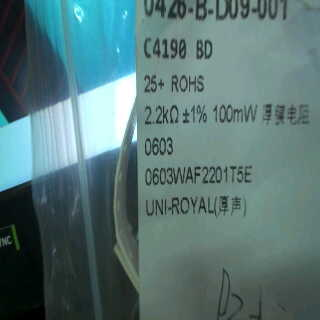2.2kR: (137, 103, 183, 131)
